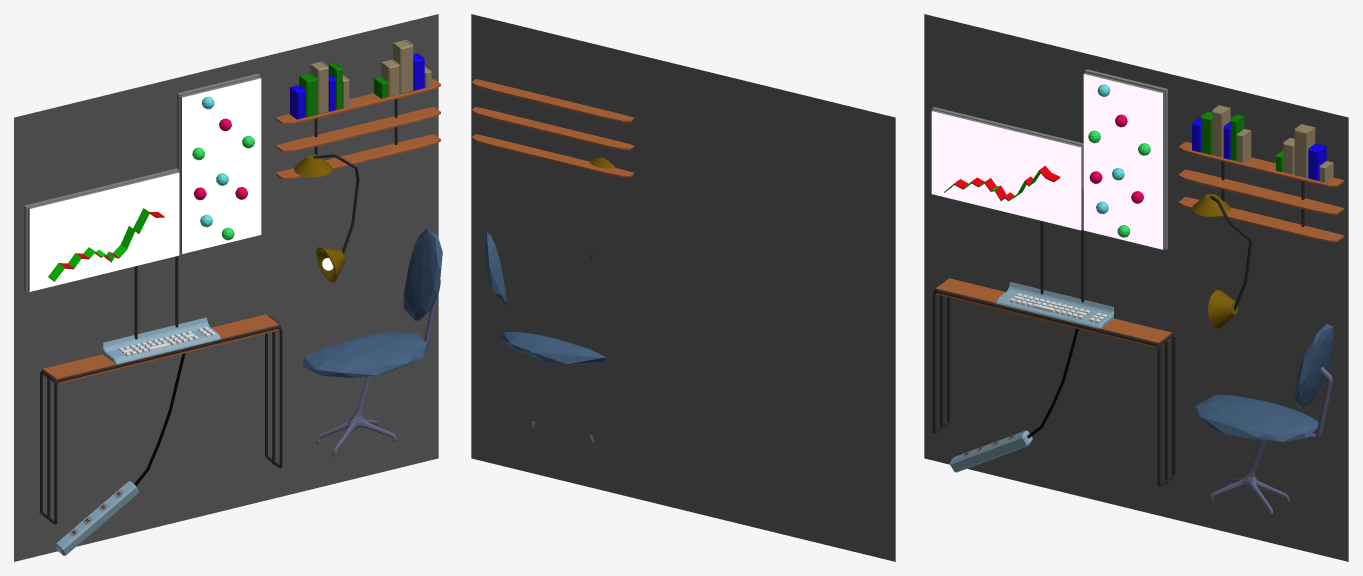
File: OfficeLevel.fbx
3 views of the same model, side by side, from view 1: azimuth 30°, elevation 25°; view 2: azimuth 150°, elevation 25°; view 3: azimuth 330°, elevation 25° (orthographic).
Parts seen in each view (by area): view 1: Plane, Cube.050, Cube.019, Icosphere, Cube.004, Icosphere.002, Cube.017, Cube.018, Cube.068, Cube.023, Cube.067, Cube.012 (+11 smaller); view 2: Plane, Icosphere, Cube.069, Cube.068, Cube.067, Icosphere.002; view 3: Plane, Cube.019, Cube.050, Icosphere, Cube.004, Cube.017, Cube.018, Cube.068, Icosphere.002, Cube.067, Cube.023, Cube.012 (+8 smaller).
Boxes of the visible parts, left/top/right/bottom form: Plane: left=14, top=14, right=438, bottom=561; Cube.050: left=24, top=168, right=179, bottom=291; Cube.019: left=177, top=73, right=261, bottom=254; Icosphere: left=303, top=332, right=427, bottom=378; Cube.004: left=39, top=315, right=282, bottom=524; Icosphere.002: left=403, top=228, right=442, bottom=320; Cube.017: left=42, top=314, right=279, bottom=384; Cube.018: left=102, top=317, right=220, bottom=364; Cube.068: left=275, top=107, right=440, bottom=152; Cube.023: left=55, top=481, right=138, bottom=555; Cube.067: left=275, top=134, right=440, bottom=179; Cube.012: left=316, top=376, right=396, bottom=456; Plane: left=471, top=14, right=895, bottom=561; Icosphere: left=500, top=332, right=606, bottom=364; Cube.069: left=471, top=79, right=634, bottom=122; Cube.068: left=471, top=107, right=634, bottom=150; Cube.067: left=471, top=134, right=634, bottom=177; Icosphere.002: left=484, top=233, right=506, bottom=304; Plane: left=924, top=14, right=1348, bottom=561; Cube.019: left=1083, top=69, right=1167, bottom=250; Cube.050: left=931, top=107, right=1083, bottom=230; Icosphere: left=1195, top=395, right=1318, bottom=441; Cube.004: left=932, top=279, right=1175, bottom=486; Cube.017: left=935, top=278, right=1172, bottom=347; Cube.018: left=996, top=282, right=1113, bottom=328; Cube.068: left=1178, top=169, right=1343, bottom=214; Icosphere.002: left=1294, top=324, right=1333, bottom=407; Cube.067: left=1178, top=197, right=1343, bottom=242; Cube.023: left=949, top=430, right=1032, bottom=472; Cube.012: left=1209, top=439, right=1289, bottom=514.
Bounding box in the file's own units: 7500 × 7500 × 1369.
